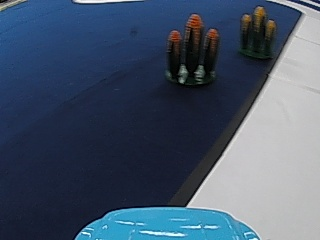corn: (164, 12, 220, 88), (238, 6, 277, 60)
